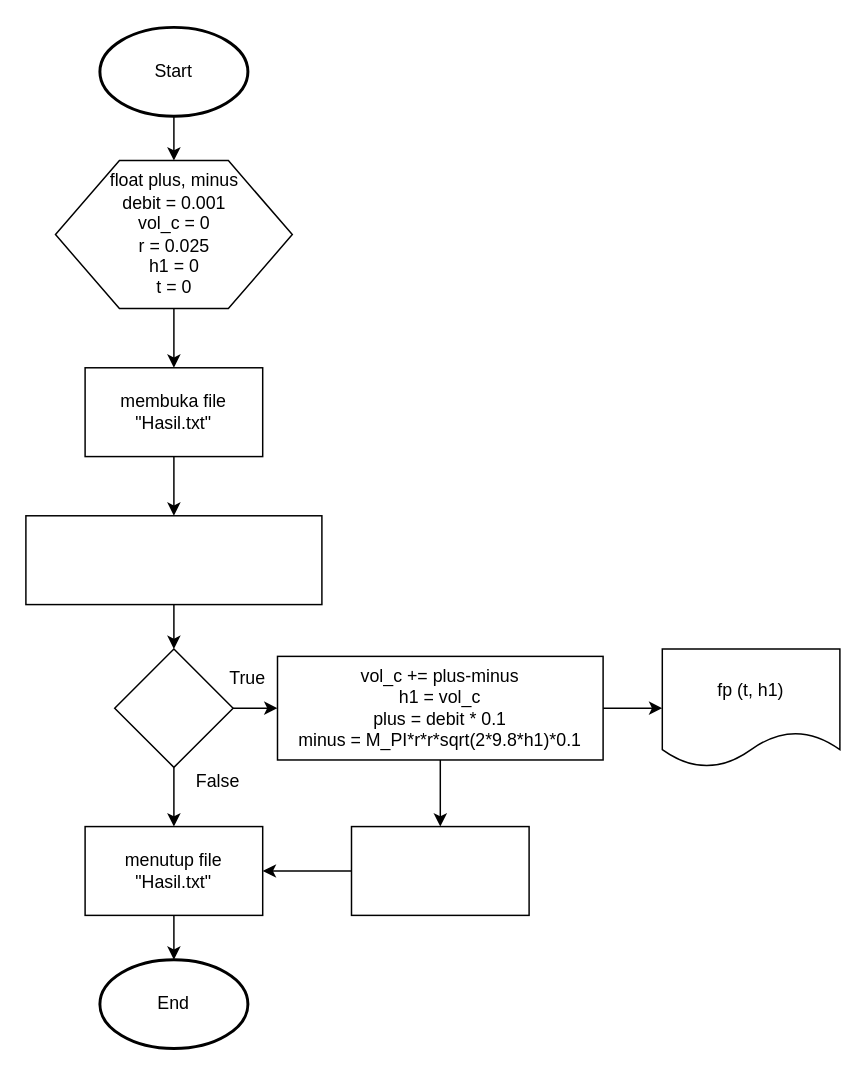
Some shapes in this 866 by 1074 pixel diagram are drawn without their labels. The box of each missing label's shape, as (x1, y1, x2, y2) in pixels:
plus = debit * 0.1 minus = M_PI*r*r*sqrt(2*9.8*h1)*0.1: (24, 514, 322, 605)
t += 0.1: (350, 825, 529, 915)
t < 100: (113, 648, 233, 767)
